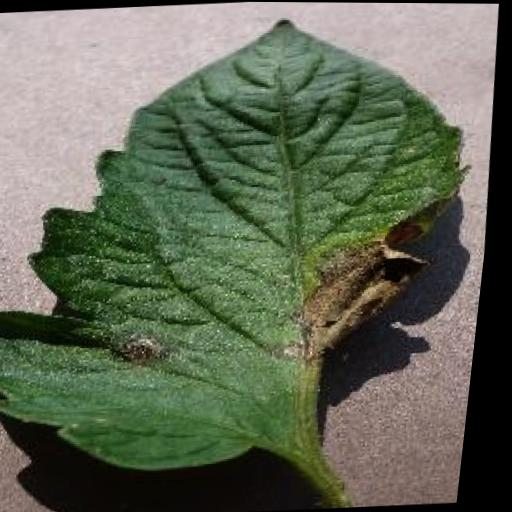Late Blight: (0, 1, 500, 486)
